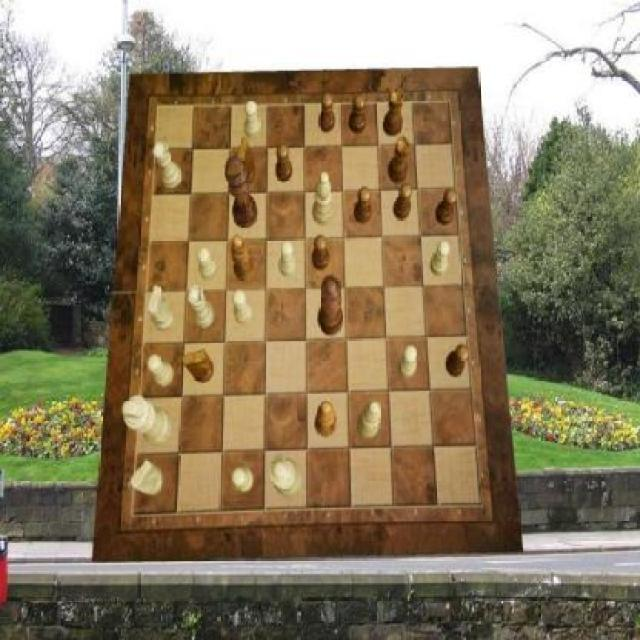bishop: (230, 236, 254, 282), (315, 400, 338, 438)
black-bishop: (225, 156, 258, 230)
black-king: (181, 349, 214, 383), (237, 137, 257, 186)
black-knight: (435, 190, 458, 226), (446, 344, 470, 378), (392, 183, 412, 221), (349, 94, 366, 134), (312, 236, 330, 272), (318, 94, 334, 134), (277, 145, 294, 182), (354, 188, 371, 224)
black-pawn: (319, 275, 343, 337)
black-queen: (388, 137, 410, 185), (383, 89, 405, 137)
black-rook: (314, 172, 334, 226), (357, 402, 380, 439)
white-bishop: (122, 395, 172, 448)
white-king: (148, 286, 175, 332), (130, 459, 162, 496)
white-knight: (148, 354, 175, 388), (232, 289, 253, 324), (431, 240, 451, 276), (244, 100, 262, 138), (197, 248, 217, 282), (398, 346, 418, 379), (279, 240, 296, 278), (232, 468, 255, 493)
white-pawn: (270, 455, 302, 498)
white-queen: (154, 143, 183, 189), (189, 285, 214, 327)
